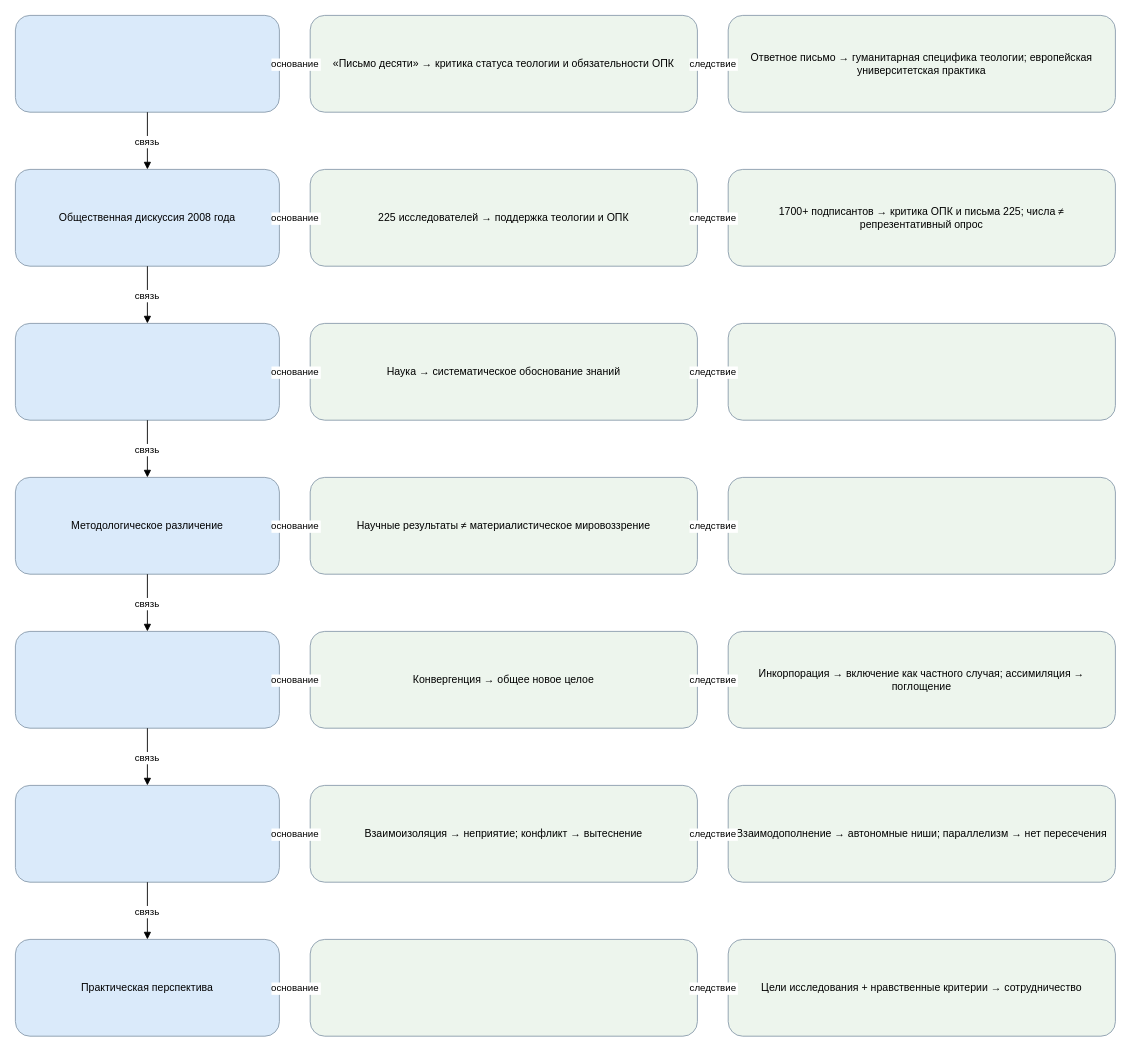
Image size: 1131x1052. Some labels were removed from this diagram. The centre of each missing label's shape, as x and y in pixels:
Диалог → обмен с сохранением смысловых структур: point 921,525
Другие типы взаимодействий: point 147,833
Интеграция по С. Д. Лебедеву: point 147,679
Наука и религия как формы культуры: point 147,371
Объединение православных учёных → ценностные ориентиры: point 503,987
Полемика 2007 года: point 147,63
Религия → самостоятельная мировоззренческая сфера; культура объединяет: point 921,371
